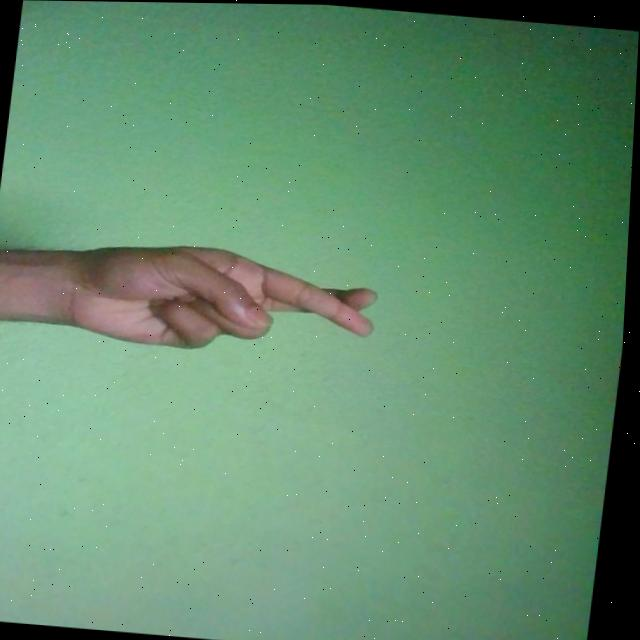Good Luck: (56, 236, 387, 364)
